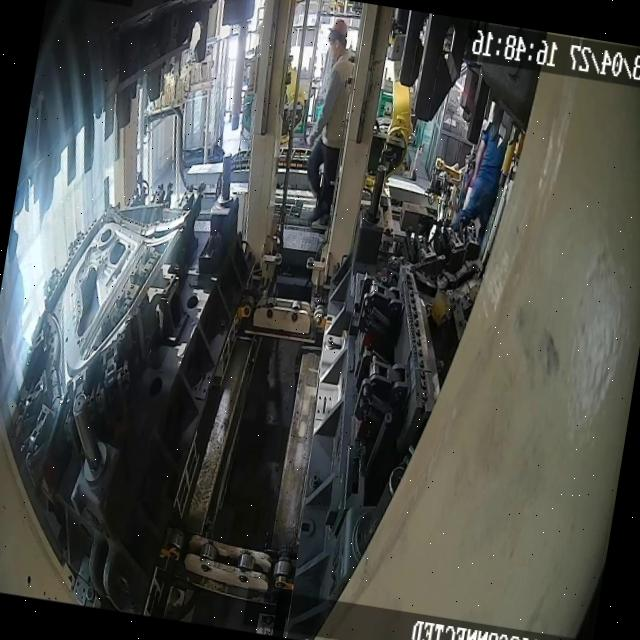Person: (295, 18, 362, 228), (448, 115, 512, 248)
